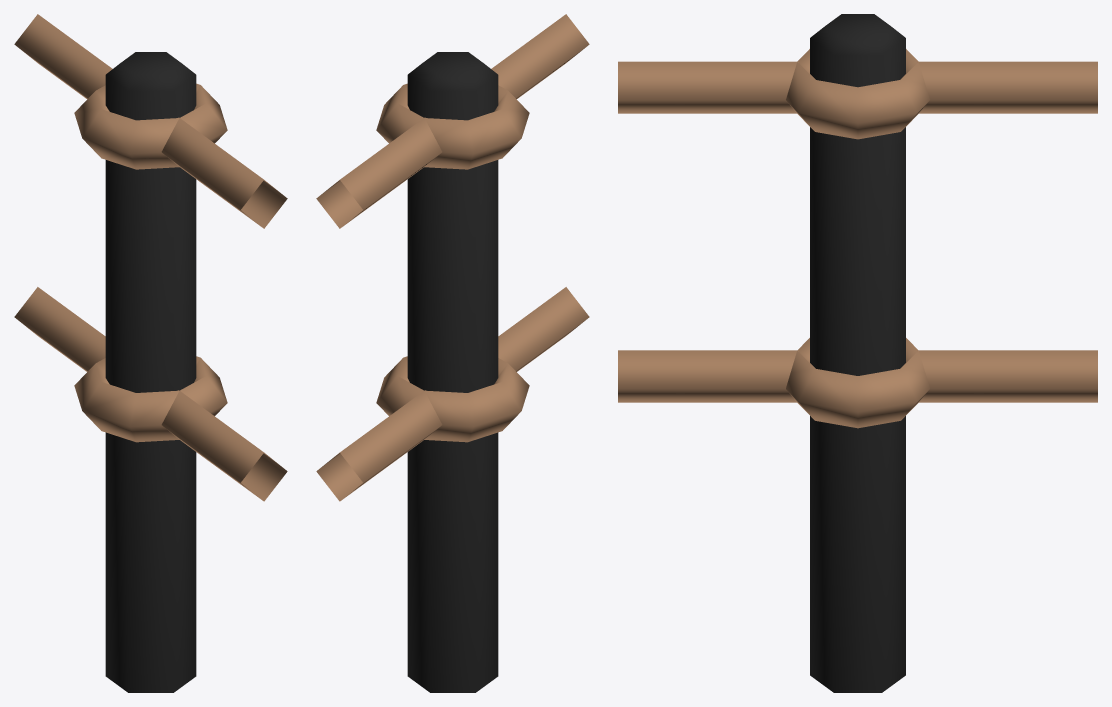
Rendered from DI_071_072_railing_straight_pole.glb.
3 views of the same model, side by side, from view 1: azimuth 30°, elevation 25°; view 2: azimuth 150°, elevation 25°; view 3: azimuth 270°, elevation 25° (orthographic). The views are drawn at different scales.
Visible parts, largest first — view 1: Pole, Ropes, Knots; view 2: Pole, Ropes, Knots; view 3: Pole, Ropes, Knots.
Part boxes in pixels (x1=…): Pole: x1=105, y1=52, x2=196, y2=692; Ropes: x1=14, y1=14, x2=287, y2=501; Knots: x1=74, y1=83, x2=227, y2=442; Pole: x1=407, y1=52, x2=498, y2=692; Ropes: x1=316, y1=14, x2=589, y2=501; Knots: x1=376, y1=83, x2=529, y2=442; Pole: x1=810, y1=14, x2=905, y2=692; Ropes: x1=618, y1=61, x2=1097, y2=402; Knots: x1=786, y1=49, x2=929, y2=428.
Bounding box in the file's own units: 0.263 × 1.12 × 0.75.
